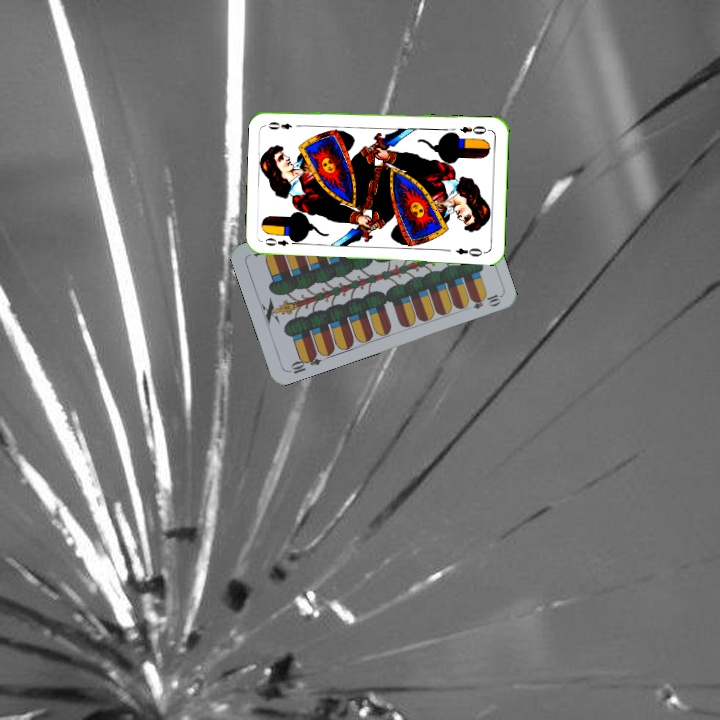E10: (284, 349, 324, 377)
EO: (261, 234, 300, 249), (456, 122, 493, 136)
